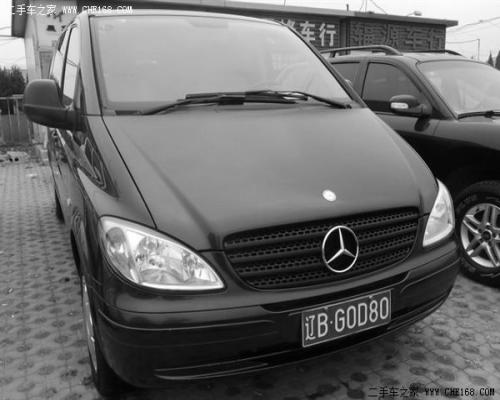Carplate: (298, 286, 397, 352)
